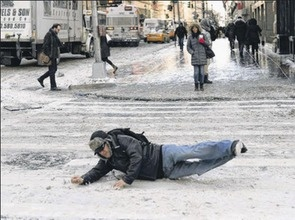falling: (70, 116, 250, 192)
